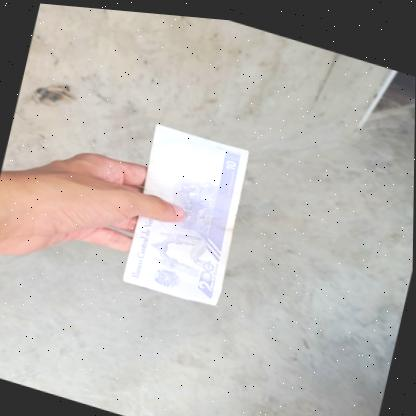ten-back-vef: (118, 117, 256, 307)
